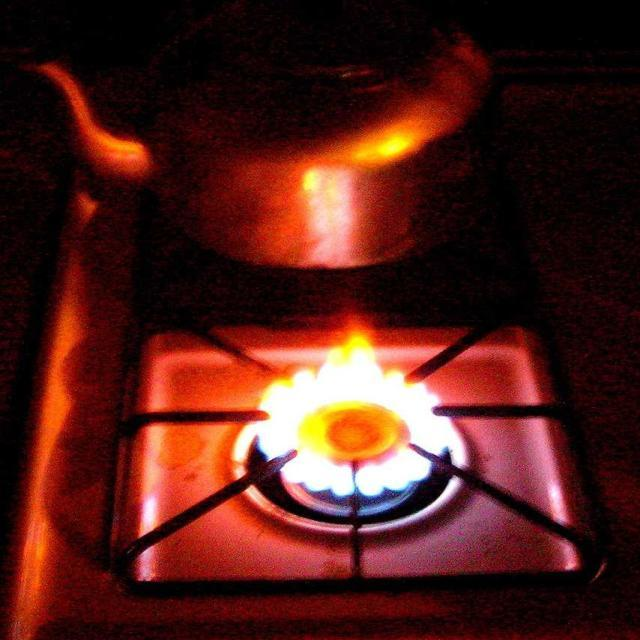Fire: (264, 367, 418, 402), (294, 453, 358, 499), (372, 452, 428, 491), (258, 414, 300, 459)
